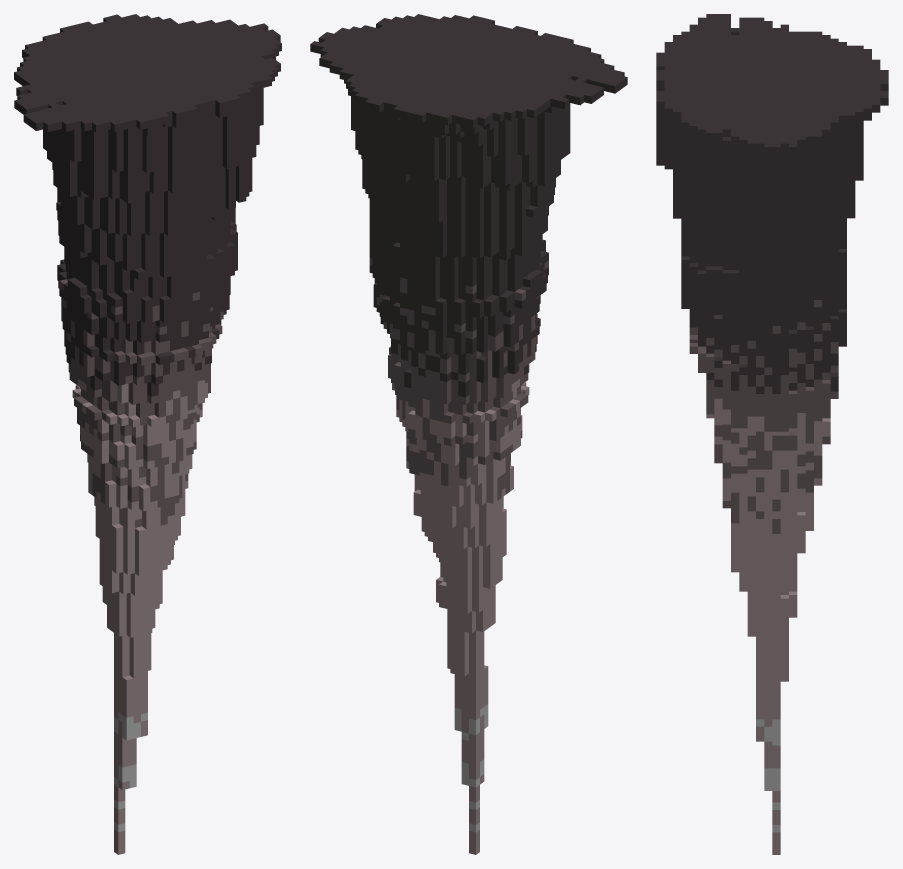
Rendered from cave-stalagmite.obj.
3 views of the same model, side by side, from view 1: azimuth 30°, elevation 25°; view 2: azimuth 150°, elevation 25°; view 3: azimuth 270°, elevation 25° (orthographic).
Bounding box in the file's own units: 3.8 × 10.4 × 2.8.
Materials: 1 (1 with a texture image).
